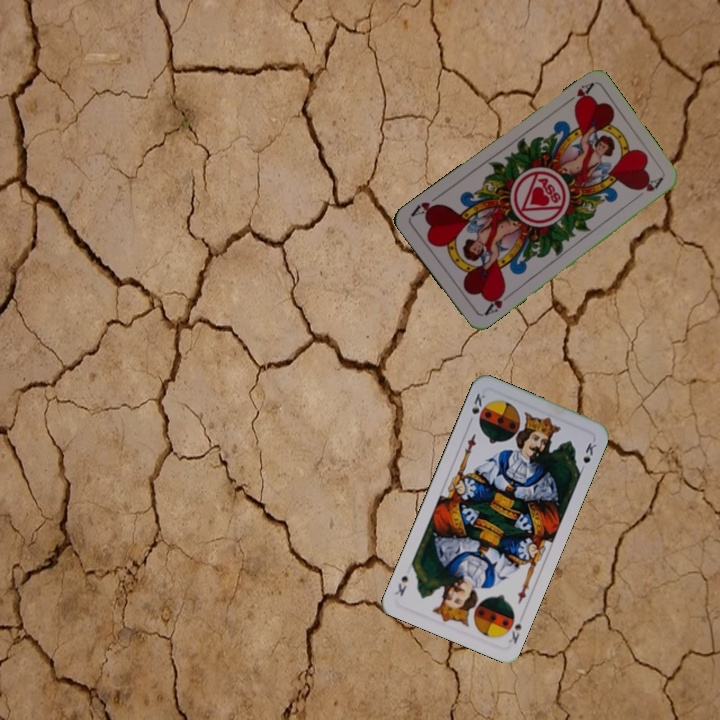HA: (480, 286, 514, 319), (559, 79, 596, 109)
SK: (468, 389, 488, 417), (505, 620, 524, 647)
